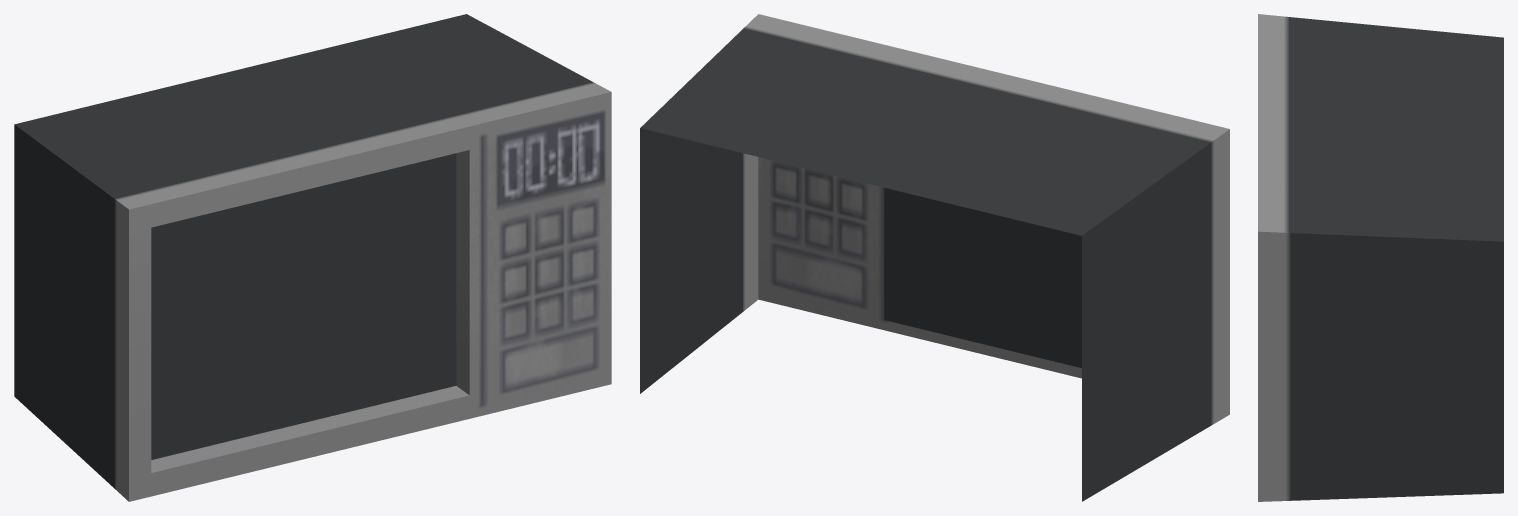
The model's file is microwave.fbx.
The picture shows the model from 3 angles, left to right: view 1: azimuth 30°, elevation 25°; view 2: azimuth 150°, elevation 25°; view 3: azimuth 270°, elevation 25°; orthographic projection. The views are drawn at different scales.
Parts seen in each view (by area): view 1: microwave; view 2: microwave; view 3: microwave.
Part boxes in pixels (<box>): microwave: <box>14,14,611,501</box>; microwave: <box>640,14,1229,501</box>; microwave: <box>1258,14,1503,501</box>.
Bounding box in the file's own units: 236 × 136 × 112.
